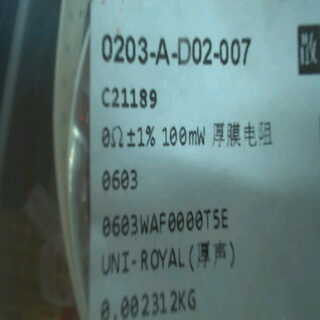0R: (97, 119, 206, 192)
